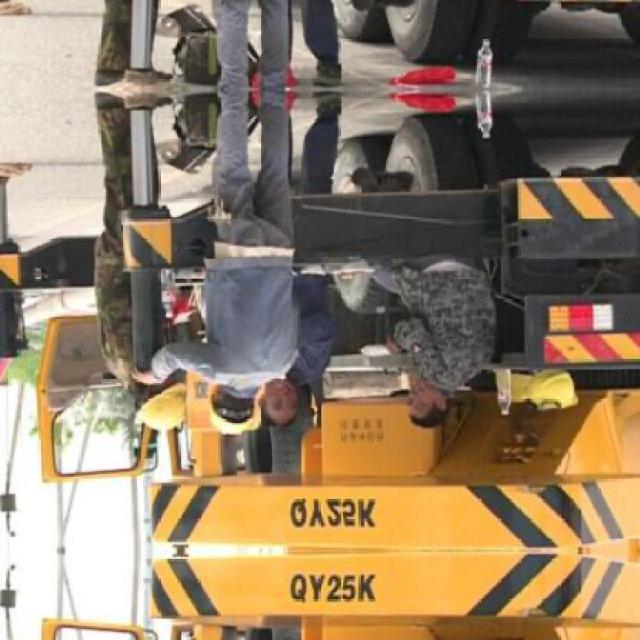con casco: (109, 380, 204, 439), (201, 369, 268, 434)
sin casco: (385, 391, 468, 442)
